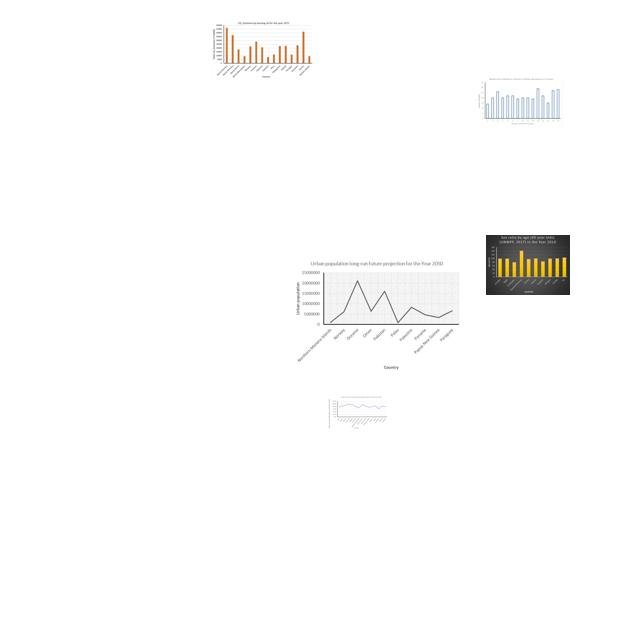Graph: (291, 257, 462, 372), (212, 21, 314, 79), (486, 235, 570, 295), (476, 76, 563, 127), (327, 395, 389, 430)
